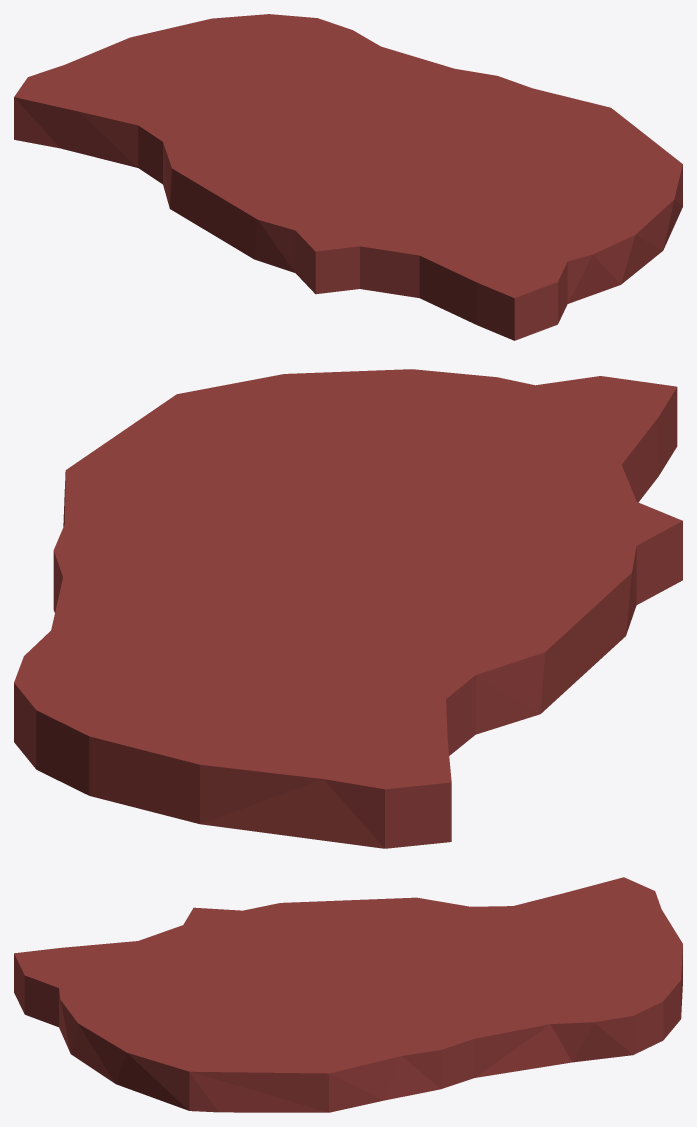
Rendered from RAS_Ground05.fbx.
The picture shows the model from 3 angles, top to bottom: view 1: azimuth 30°, elevation 25°; view 2: azimuth 150°, elevation 25°; view 3: azimuth 270°, elevation 25°; orthographic projection. The views are drawn at different scales.
Parts seen in each view (by area): view 1: RAS_Ground05; view 2: RAS_Ground05; view 3: RAS_Ground05.
Boxes of the visible parts, left/top/right/bottom form: RAS_Ground05: left=14, top=14, right=682, bottom=340; RAS_Ground05: left=14, top=369, right=682, bottom=848; RAS_Ground05: left=14, top=877, right=682, bottom=1112.
Bounding box in the file's own units: 223 × 20.8 × 321.
1 material, 1 textured.
